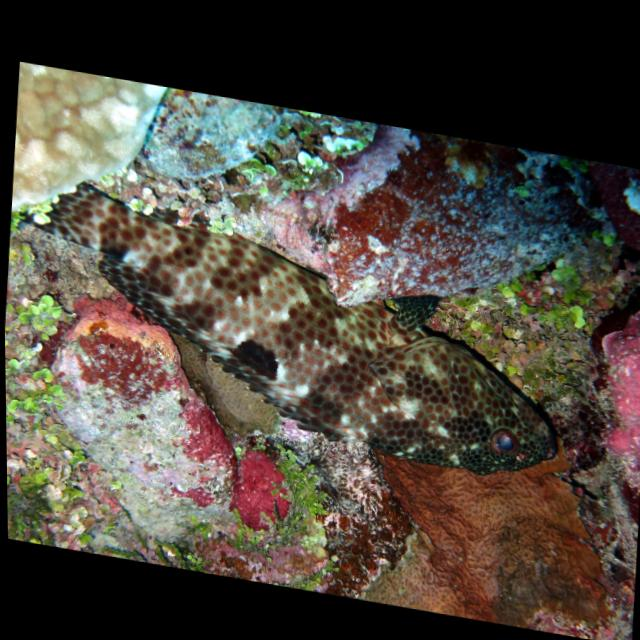Groupers: (8, 173, 573, 495)
